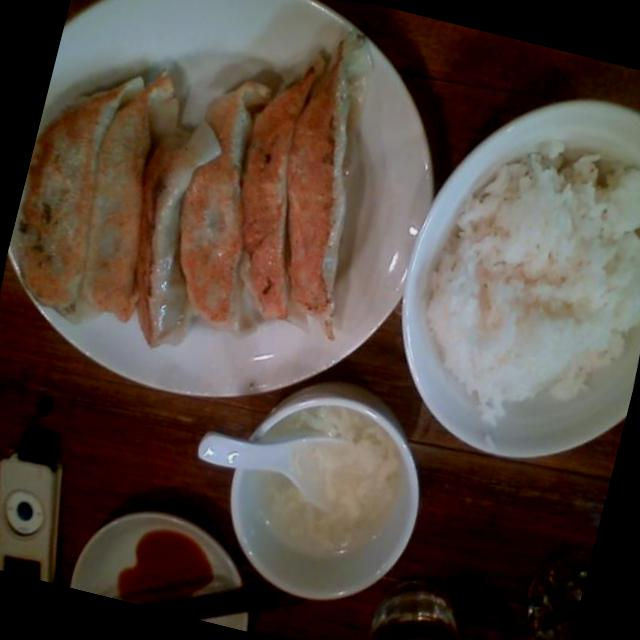Rice: (401, 109, 640, 457)
